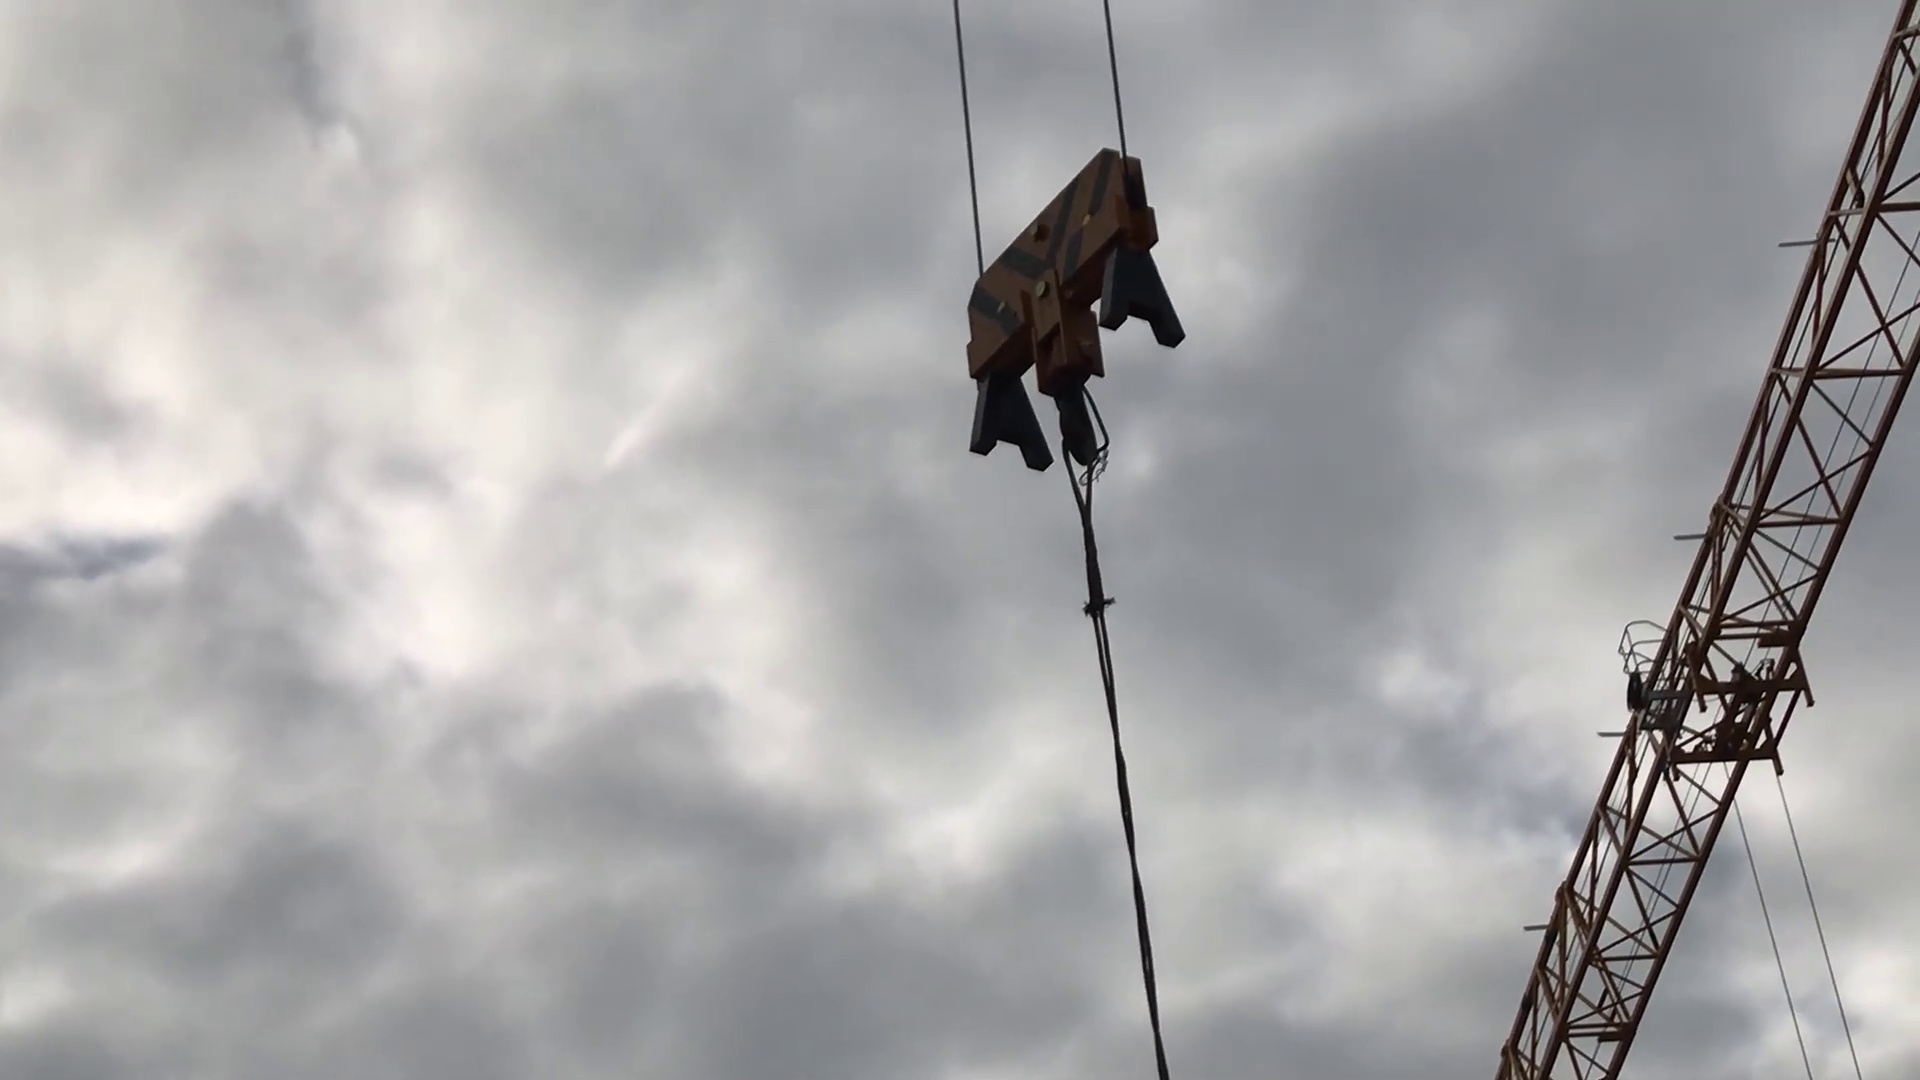hook: (952, 137, 1200, 480)
